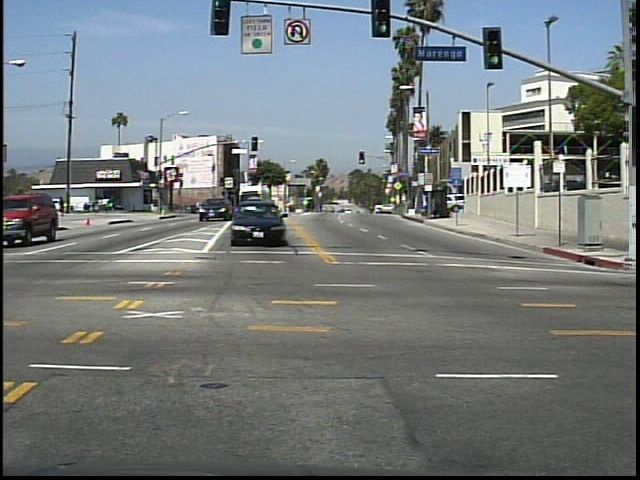person: (54, 192, 71, 220)
